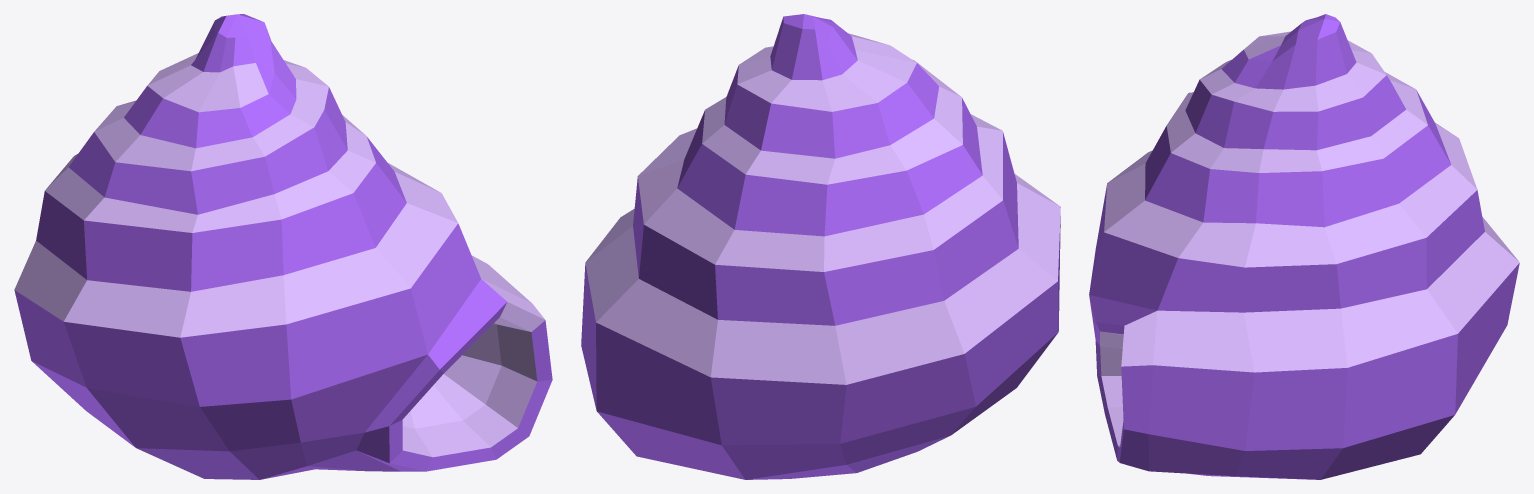
Rendered from Coral_09.fbx.
3 views of the same model, side by side, from view 1: azimuth 30°, elevation 25°; view 2: azimuth 150°, elevation 25°; view 3: azimuth 270°, elevation 25° (orthographic). The views are drawn at different scales.
Visible parts, largest first — view 1: Coral_09; view 2: Coral_09; view 3: Coral_09.
Part boxes in pixels (x1,y1,x2,y2): Coral_09: (14, 14, 552, 479); Coral_09: (581, 14, 1060, 479); Coral_09: (1089, 14, 1519, 479).
Size of the model in its own units: 32.03 by 31.18 by 29.92.
